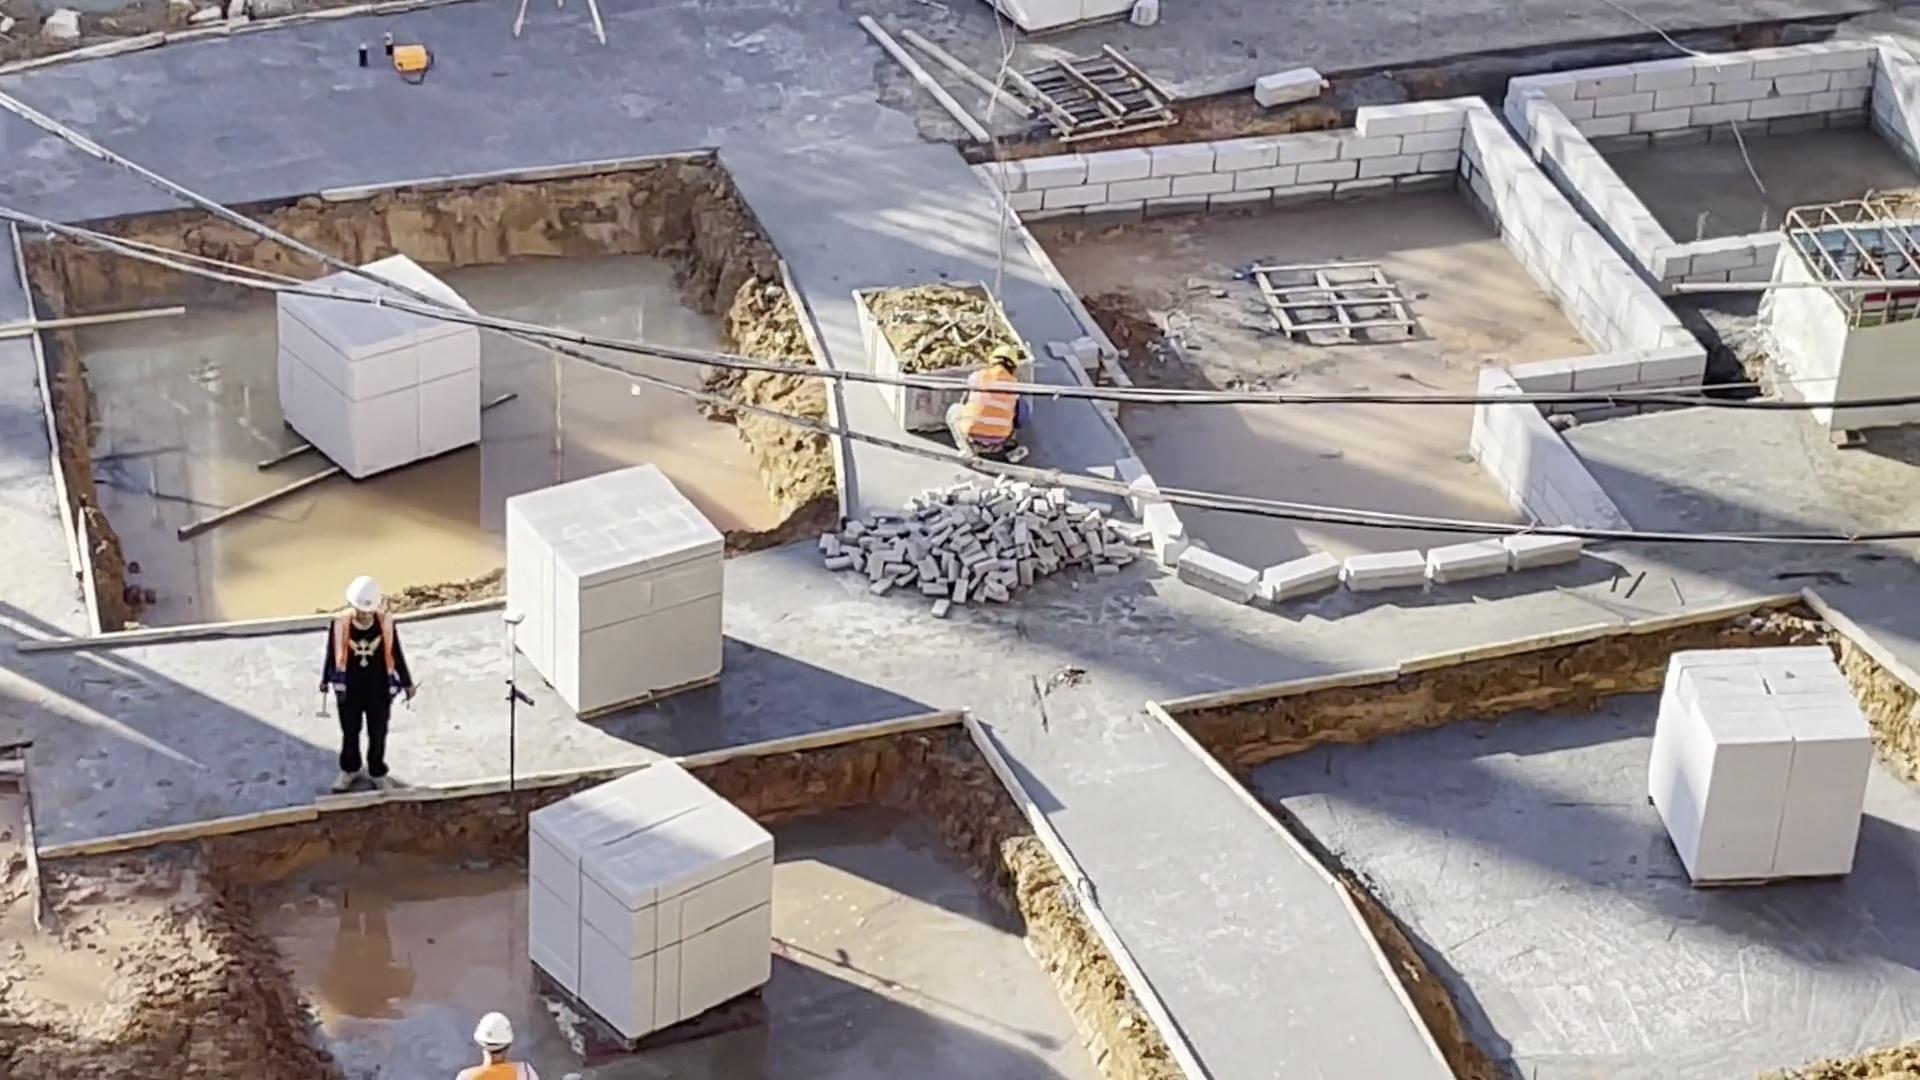brick: (524, 758, 775, 1043), (509, 457, 732, 720), (1639, 642, 1878, 883), (268, 324, 487, 482), (983, 1, 1149, 39)
helmet: (470, 1011, 518, 1052), (340, 574, 386, 615), (988, 344, 1017, 366)
hopper: (850, 276, 980, 371)
person: (310, 567, 422, 797), (932, 341, 1036, 461), (449, 1011, 536, 1080)
vest: (328, 612, 400, 702), (958, 392, 1020, 442)
